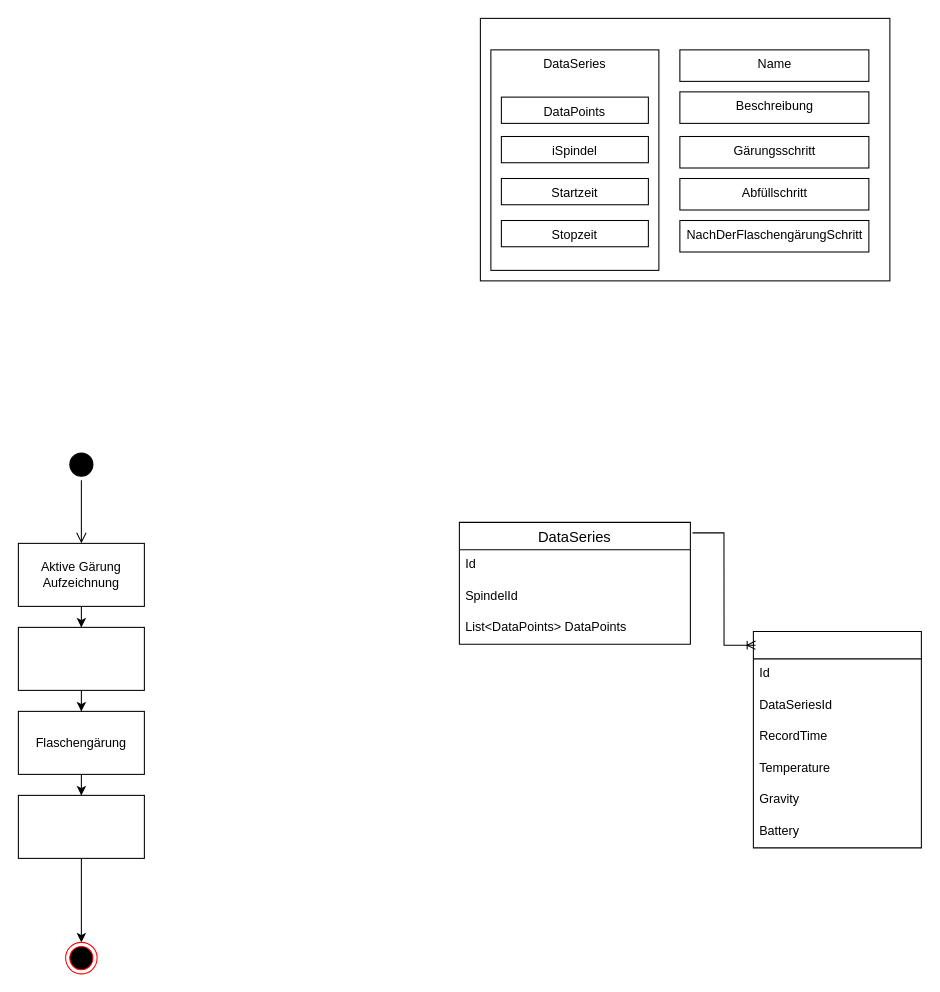
Some shapes in this 940 by 992 pixel diagram are drawn without their labels. The shapes that lost their labels are listed below. From the top down, each one's box as (x1, y1, x2, y2) in pixels, then its label:
(479, 17, 890, 281): BrewingBatch
(17, 626, 144, 690): Abfüllung
(752, 631, 921, 848): DataPoint
(17, 794, 144, 858): Trinken Verkostung
